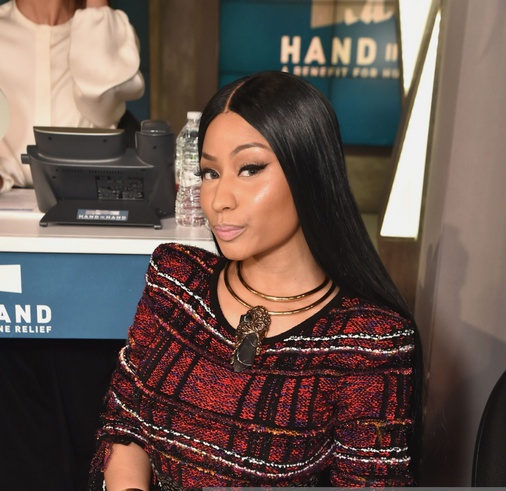mouth: (209, 223, 249, 241)
nose: (210, 200, 237, 211)
